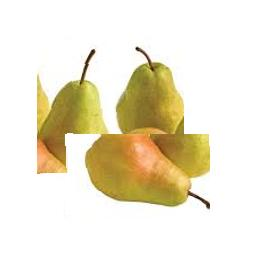Pear Fresh: (37, 41, 125, 175), (66, 135, 211, 216), (112, 33, 185, 136)
